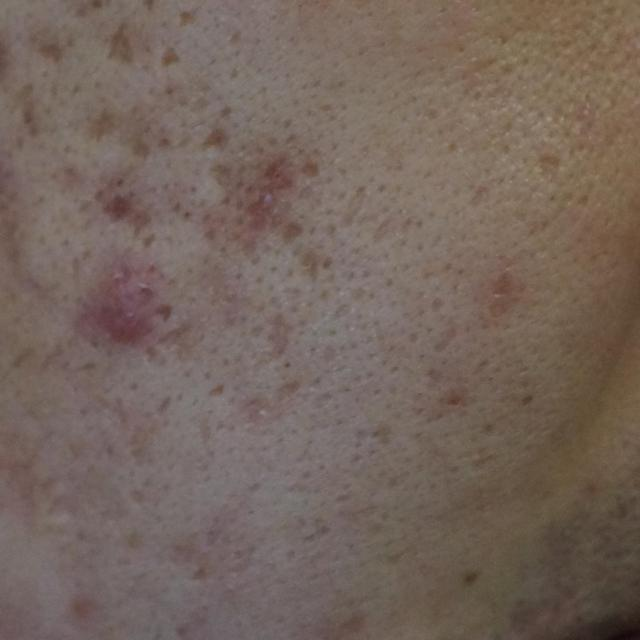nodule: (103, 278, 156, 344)
